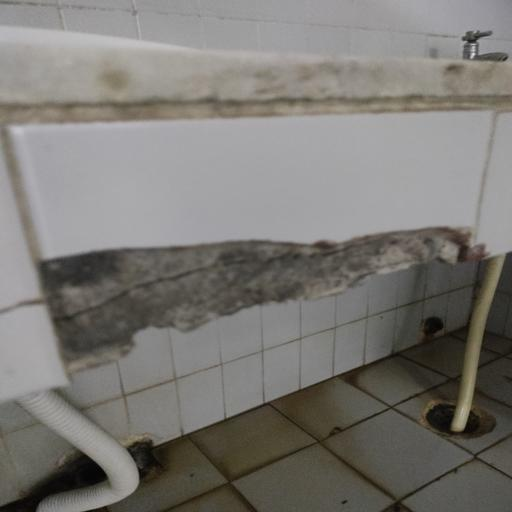spalling: (30, 198, 478, 372)
